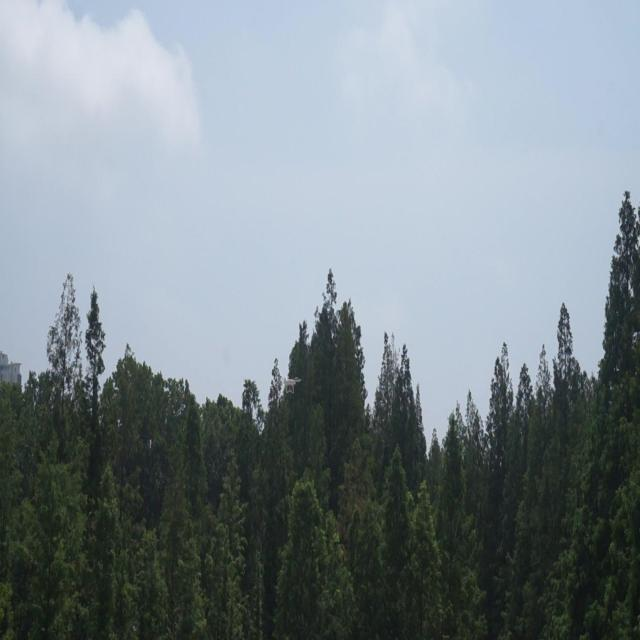drone: (280, 375, 303, 397)
